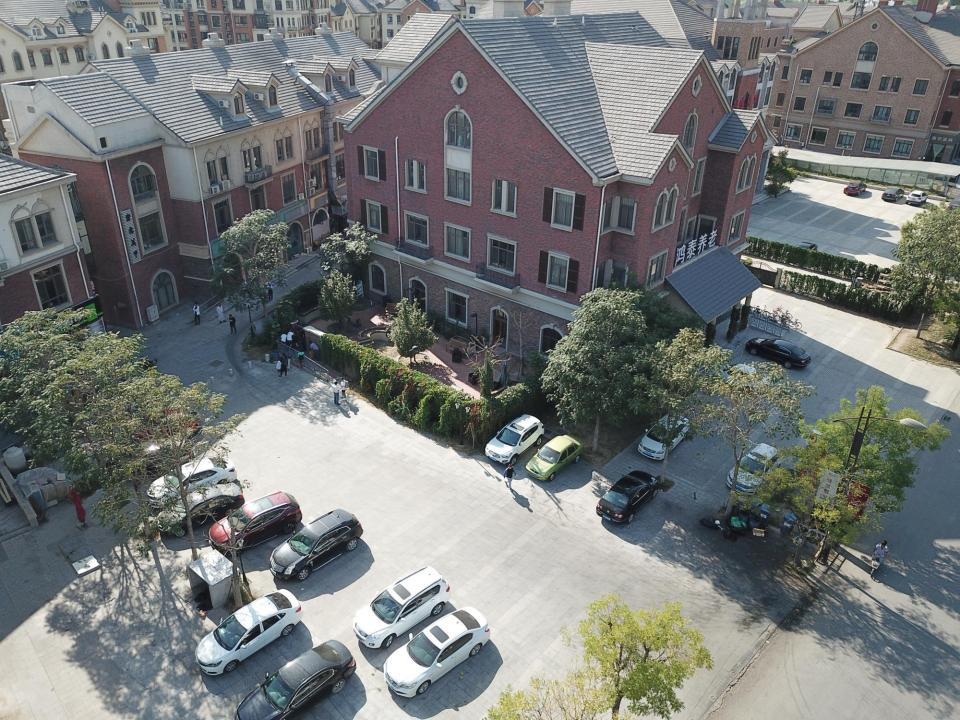car: (384, 605, 490, 698), (234, 639, 357, 719), (196, 589, 304, 675), (352, 565, 452, 649), (270, 509, 363, 581), (209, 491, 302, 557), (146, 455, 238, 509), (157, 483, 245, 536), (485, 414, 545, 464), (726, 443, 782, 493), (525, 434, 583, 481), (132, 409, 200, 441), (745, 338, 812, 368), (708, 362, 771, 392), (132, 438, 194, 466), (789, 241, 818, 262), (844, 180, 866, 196), (882, 186, 904, 202), (906, 190, 928, 206), (947, 196, 960, 212)
